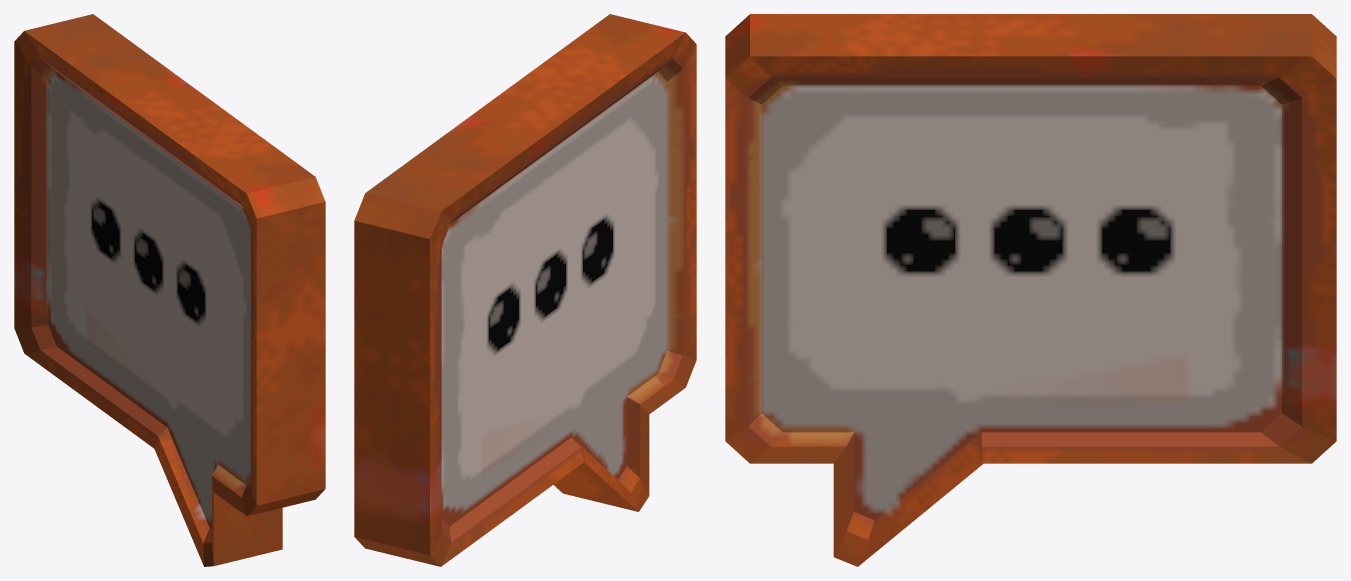
File: DevComment.fbx
3 views of the same model, side by side, from view 1: azimuth 30°, elevation 25°; view 2: azimuth 150°, elevation 25°; view 3: azimuth 270°, elevation 25° (orthographic). The views are drawn at different scales.
Parts seen in each view (by area): view 1: ChatBubble; view 2: ChatBubble; view 3: ChatBubble.
Boxes of the visible parts, box(x1,y1,x2,y2) form: ChatBubble: box(14, 14, 325, 566); ChatBubble: box(354, 14, 696, 566); ChatBubble: box(725, 14, 1336, 566).
Bounding box in the file's own units: 44.67 × 251 × 272.
